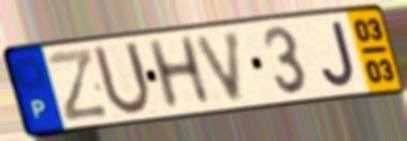3: (262, 22, 313, 97)
H: (143, 33, 215, 114)
J: (319, 18, 358, 89)
U: (89, 39, 154, 119)
V: (192, 27, 243, 105)
Z: (44, 46, 112, 126)
